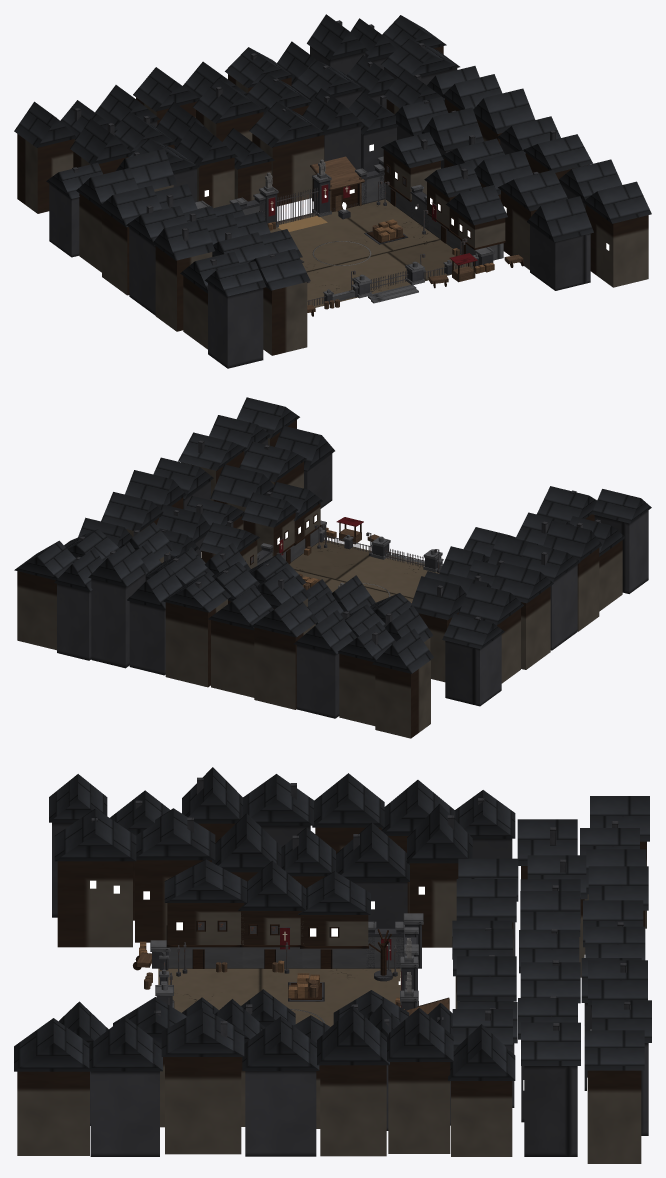
Rendered from town_gateyard_01.glb.
3 views of the same model, one above another, from view 1: azimuth 30°, elevation 25°; view 2: azimuth 150°, elevation 25°; view 3: azimuth 270°, elevation 25° (orthographic). The views are drawn at different scales.
Visible parts, largest first — view 1: _MeshInstance3D_495, _MeshInstance3D_816, _MeshInstance3D_906, _MeshInstance3D_885, _MeshInstance3D_788, _MeshInstance3D_591, _MeshInstance3D_541, _MeshInstance3D_808, _MeshInstance3D_886, _MeshInstance3D_542, _MeshInstance3D_800, _MeshInstance3D_804 (+68 smaller); view 2: _MeshInstance3D_495, _MeshInstance3D_591, _MeshInstance3D_605, _MeshInstance3D_611, _MeshInstance3D_793, _MeshInstance3D_600, _MeshInstance3D_602, _MeshInstance3D_597, _MeshInstance3D_619, _MeshInstance3D_608, _MeshInstance3D_615, _MeshInstance3D_593 (+62 smaller); view 3: _MeshInstance3D_899, _MeshInstance3D_495, _MeshInstance3D_788, _MeshInstance3D_906, _MeshInstance3D_895, _MeshInstance3D_891, _MeshInstance3D_903, _MeshInstance3D_889, _MeshInstance3D_619, _MeshInstance3D_587, _MeshInstance3D_887, _MeshInstance3D_766 (+66 smaller).
Part boxes in pixels (x1=…): _MeshInstance3D_495: x1=270, y1=199, x2=473, y2=307; _MeshInstance3D_816: x1=208, y1=283, x2=263, y2=368; _MeshInstance3D_906: x1=585, y1=204, x2=648, y2=287; _MeshInstance3D_885: x1=530, y1=224, x2=590, y2=290; _MeshInstance3D_788: x1=263, y1=282, x2=307, y2=355; _MeshInstance3D_591: x1=17, y1=134, x2=74, y2=213; _MeshInstance3D_541: x1=252, y1=134, x2=324, y2=206; _MeshInstance3D_808: x1=155, y1=246, x2=212, y2=331; _MeshInstance3D_886: x1=527, y1=196, x2=593, y2=242; _MeshInstance3D_542: x1=249, y1=102, x2=326, y2=147; _MeshInstance3D_800: x1=102, y1=210, x2=129, y2=295; _MeshInstance3D_804: x1=129, y1=228, x2=155, y2=315; _MeshInstance3D_495: x1=289, y1=540, x2=439, y2=602; _MeshInstance3D_591: x1=375, y1=660, x2=430, y2=738; _MeshInstance3D_605: x1=165, y1=599, x2=227, y2=687; _MeshInstance3D_611: x1=91, y1=573, x2=145, y2=668; _MeshInstance3D_793: x1=445, y1=634, x2=501, y2=706; _MeshInstance3D_600: x1=254, y1=624, x2=315, y2=709; _MeshInstance3D_602: x1=211, y1=620, x2=254, y2=697; _MeshInstance3D_597: x1=296, y1=645, x2=339, y2=718; _MeshInstance3D_619: x1=17, y1=571, x2=56, y2=650; _MeshInstance3D_608: x1=129, y1=601, x2=165, y2=675; _MeshInstance3D_615: x1=57, y1=583, x2=91, y2=660; _MeshInstance3D_593: x1=339, y1=654, x2=375, y2=725; _MeshInstance3D_899: x1=165, y1=1057, x2=241, y2=1154; _MeshInstance3D_495: x1=158, y1=968, x2=400, y2=1026; _MeshInstance3D_788: x1=57, y1=861, x2=132, y2=947; _MeshInstance3D_906: x1=17, y1=1071, x2=89, y2=1155; _MeshInstance3D_895: x1=245, y1=1071, x2=316, y2=1156; _MeshInstance3D_891: x1=320, y1=1065, x2=386, y2=1156; _MeshInstance3D_903: x1=90, y1=1071, x2=159, y2=1156; _MeshInstance3D_889: x1=388, y1=1062, x2=450, y2=1153; _MeshInstance3D_619: x1=587, y1=1070, x2=641, y2=1163; _MeshInstance3D_587: x1=524, y1=1066, x2=577, y2=1156; _MeshInstance3D_887: x1=451, y1=1081, x2=512, y2=1156; _MeshInstance3D_766: x1=410, y1=863, x2=458, y2=947.
Size of what is drawn, in the model's own units: 60.37 by 15.32 by 59.48.
17 materials, 12 textured.
